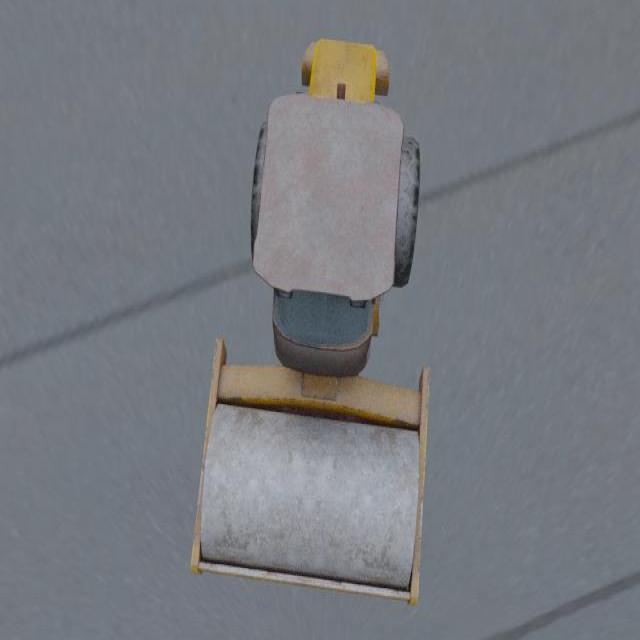Roller: (190, 38, 430, 606)
